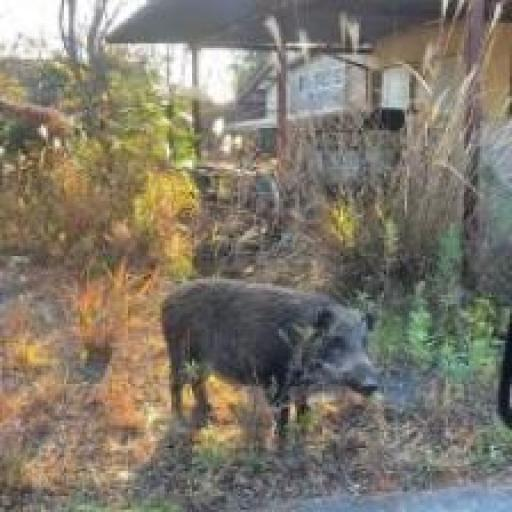Pig: (153, 270, 389, 447)
